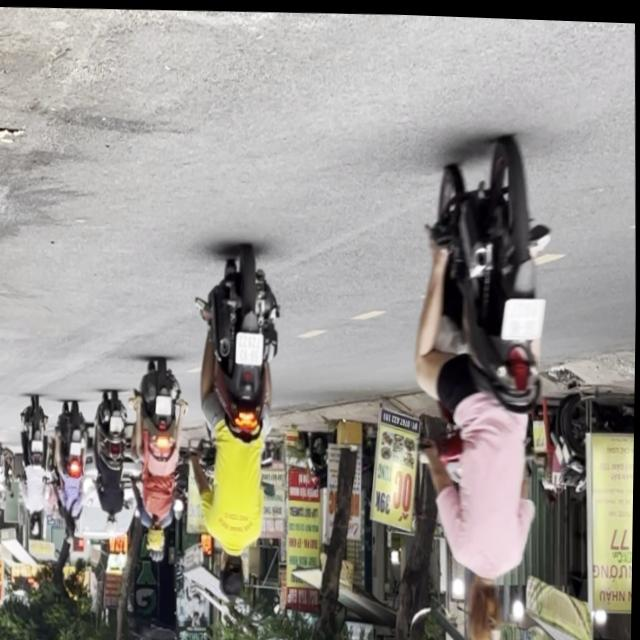licenseplate: (405, 132, 560, 640), (189, 243, 287, 596)
motorcyclist: (467, 567, 509, 640), (221, 548, 248, 594)
nohelmet: (501, 291, 545, 337), (234, 329, 264, 363)
